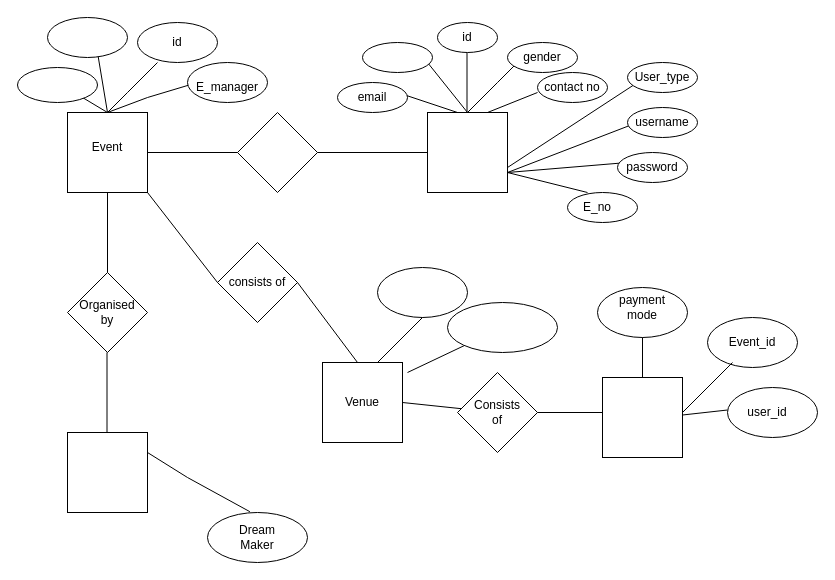
Some shapes in this 835 by 580 pixel diagram are drawn without their labels. Here are the shapes that lost their labels. From the top down, the centre of each, then its label:
At point 87,37: "Event_type".
At point 397,57: "name".
At point 57,84: "Amount".
At point 277,152: "has".
At point 467,152: "User".
At point 422,292: "date".
At point 502,327: "Timing".
At point 642,417: "Payment".
At point 107,472: "Event Management System".
